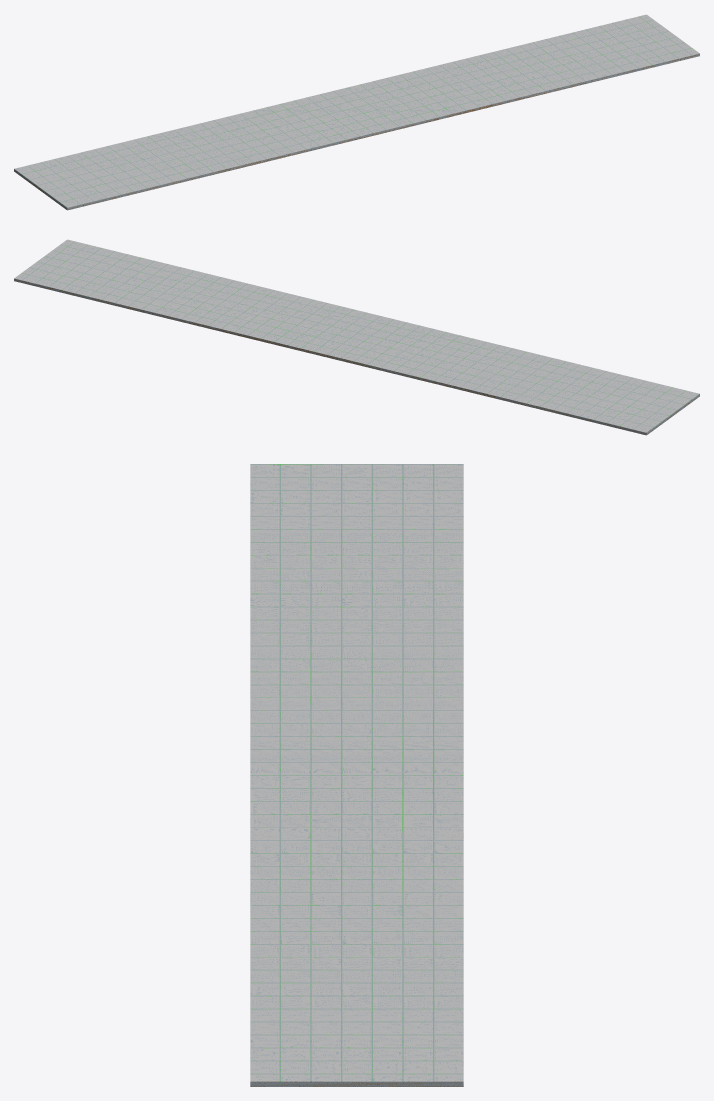
The model's file is Sidewalk_2.fbx.
3 renders of one model, top to bottom at view 1: azimuth 30°, elevation 25°; view 2: azimuth 150°, elevation 25°; view 3: azimuth 270°, elevation 25°, orthographic. The views are drawn at different scales.
Visible parts, largest first — view 1: Sidewalk_2; view 2: Sidewalk_2; view 3: Sidewalk_2.
Boxes of the visible parts, box(x1,y1,x2,y2) form: Sidewalk_2: box(14, 14, 699, 210); Sidewalk_2: box(14, 239, 699, 435); Sidewalk_2: box(250, 464, 463, 1086).
Size of the model in its own units: 5000 by 20 by 730.
